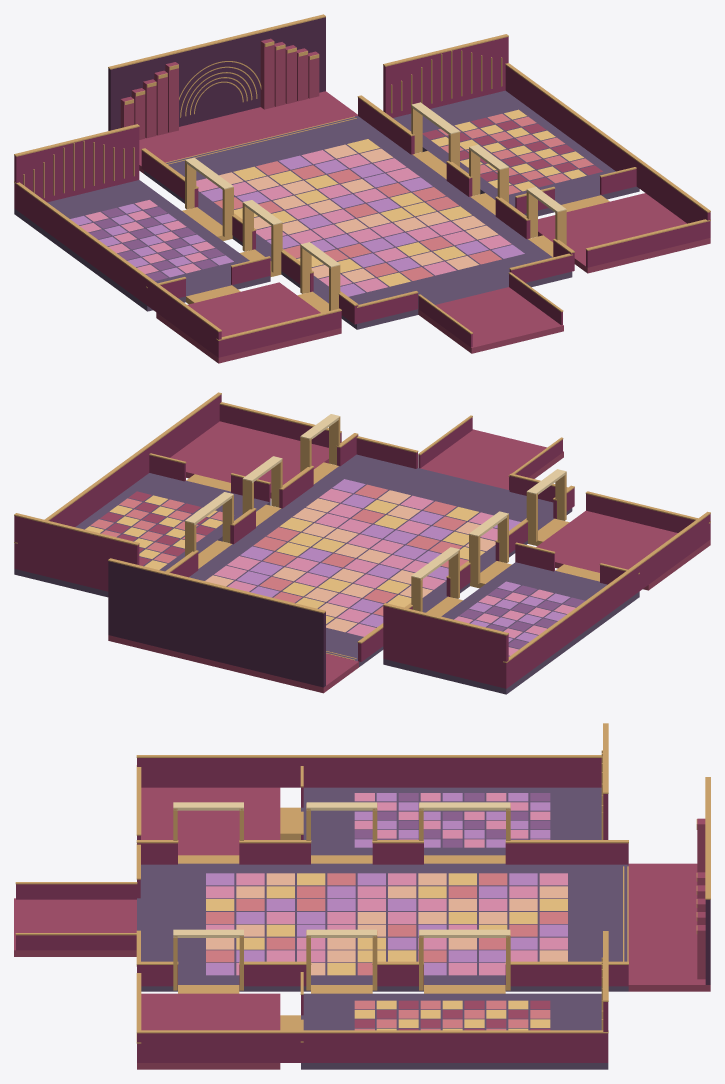
File: retro-empty.glb
3 views of the same model, one above another, from view 1: azimuth 30°, elevation 25°; view 2: azimuth 150°, elevation 25°; view 3: azimuth 270°, elevation 25° (orthographic). The views are drawn at different scales.
Parts seen in each view (by area): view 1: trim/tile hall (×5), floor/hall, wall/back wing, wall/outer flank, wall/stage backdrop, trim/coping, floor/A, floor/B, trim/tile B (×3), trim/tile A (×3), wall/backdrop steps, floor/stage (+13 smaller); view 2: trim/tile hall (×5), wall/stage backdrop, floor/hall, wall/back wing, wall/outer flank, trim/coping, floor/lounge, floor/bar, floor/A, wall/portal jamb, floor/B, trim/tile B (×3) (+9 smaller); view 3: trim/tile hall (×5), wall/outer flank, floor/hall, wall/partition, floor/A, trim/coping, floor/stage, floor/B, trim/tile A (×3), floor/lounge, floor/bar, trim/tile B (×3) (+12 smaller).
Boxes of the visible parts, x1,y1,x2,y2 form: trim/tile hall (×5): [196, 139, 524, 296]; floor/hall: [144, 116, 572, 329]; wall/back wing: [14, 37, 508, 208]; wall/outer flank: [14, 65, 710, 357]; wall/stage backdrop: [108, 17, 325, 130]; trim/coping: [14, 14, 710, 340]; floor/A: [14, 180, 270, 311]; floor/B: [393, 90, 639, 216]; trim/tile B (×3): [422, 109, 602, 194]; trim/tile A (×3): [70, 200, 233, 280]; wall/backdrop steps: [120, 38, 319, 139]; floor/stage: [139, 91, 357, 173]; trim/tile hall (×5): [205, 479, 520, 636]; wall/stage backdrop: [108, 561, 325, 687]; floor/hall: [189, 454, 572, 666]; wall/back wing: [14, 516, 508, 688]; wall/outer flank: [14, 394, 710, 688]; trim/coping: [14, 392, 710, 662]; floor/lounge: [536, 510, 710, 590]; floor/bar: [170, 421, 328, 498]; floor/A: [383, 562, 639, 694]; wall/portal jamb: [185, 417, 566, 611]; floor/B: [14, 473, 270, 597]; trim/tile B (×3): [85, 491, 222, 569]; trim/tile hall (×5): [206, 873, 567, 975]; wall/outer flank: [137, 758, 608, 1062]; floor/hall: [137, 863, 628, 991]; wall/partition: [137, 843, 628, 986]; floor/A: [301, 787, 601, 855]; trim/coping: [15, 723, 710, 1043]; floor/stage: [628, 863, 710, 991]; floor/B: [301, 993, 608, 1069]; trim/tile A (×3): [354, 793, 550, 847]; floor/lounge: [141, 787, 280, 855]; floor/bar: [137, 993, 280, 1069]; trim/tile B (×3): [354, 1000, 550, 1030].
Size of the model in its own units: 32.02 by 5.02 by 34.01.
